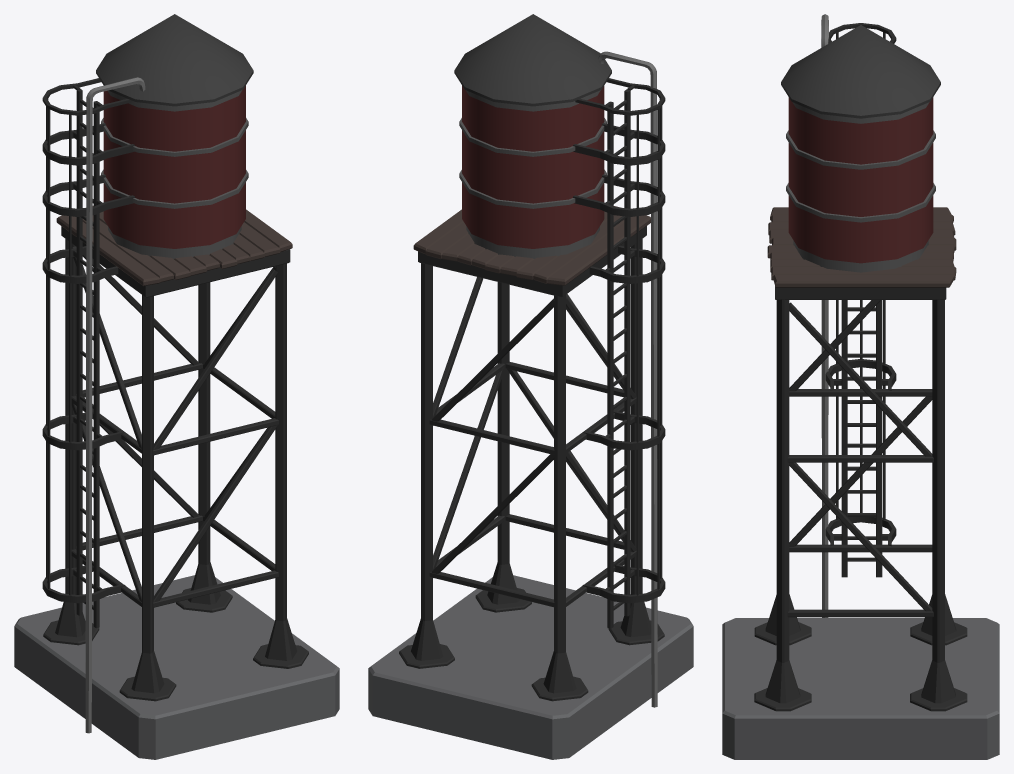
The model's file is farmstractures_22.glb.
3 views of the same model, side by side, from view 1: azimuth 30°, elevation 25°; view 2: azimuth 150°, elevation 25°; view 3: azimuth 270°, elevation 25° (orthographic).
Visible parts, largest first — view 1: farmstractures_22; view 2: farmstractures_22; view 3: farmstractures_22.
Part boxes in pixels (<box>): farmstractures_22: <box>14,14,339,759</box>; farmstractures_22: <box>368,14,693,759</box>; farmstractures_22: <box>722,14,999,759</box>.
Size of the model in its own units: 2.89 by 8.16 by 2.98.
1 material, 1 textured.
